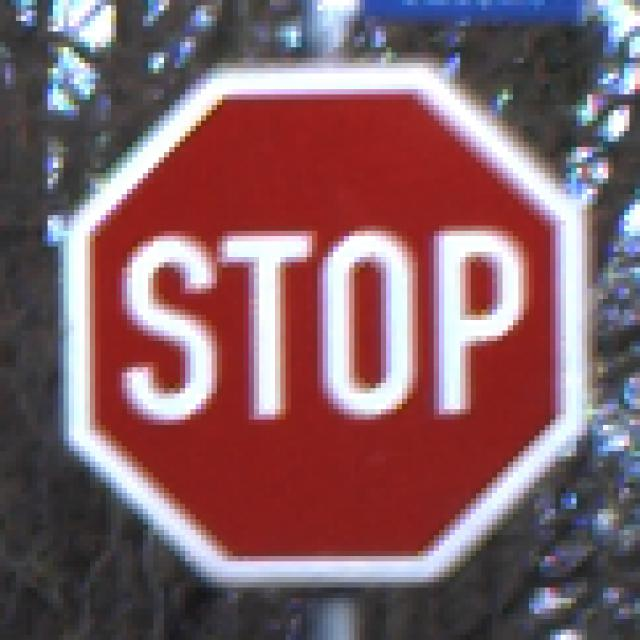STOP: (59, 59, 588, 589)
